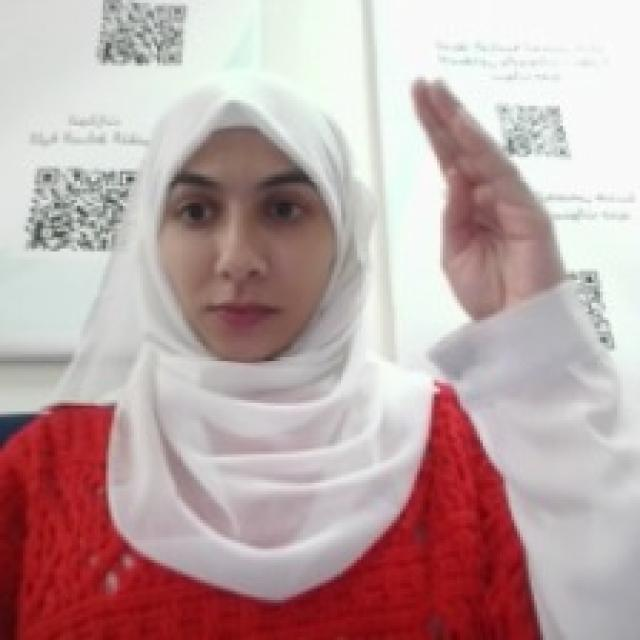Thanks: (400, 66, 560, 320)
